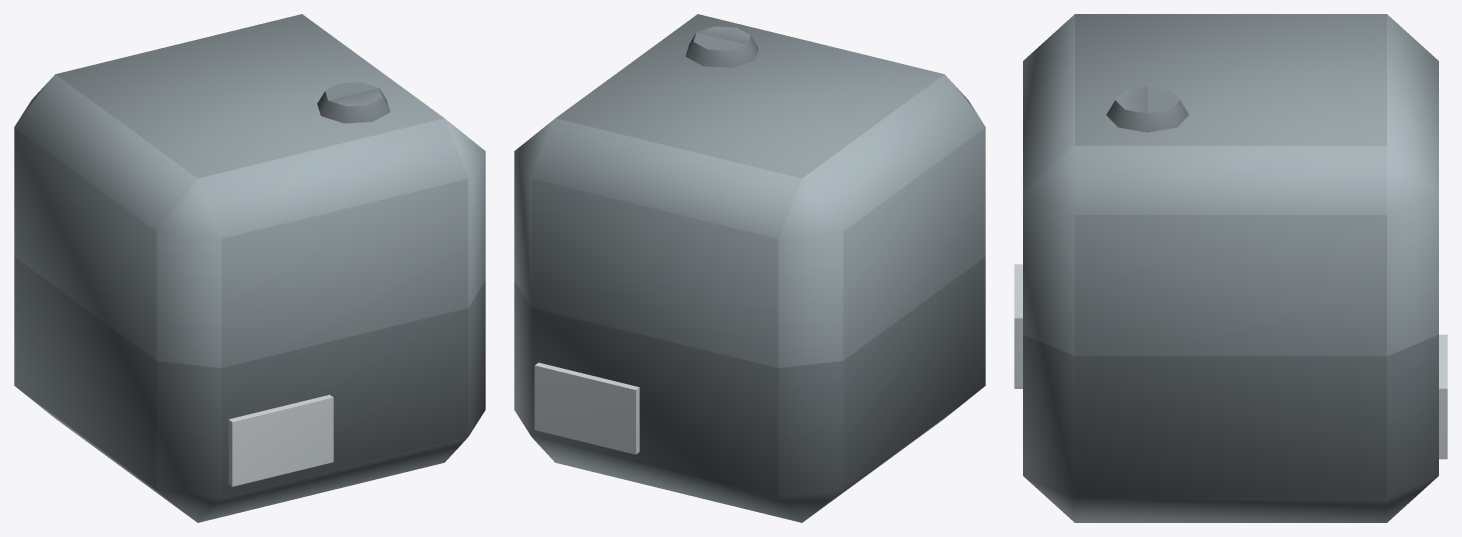
Rendered from cargo_b.glb.
3 views of the same model, side by side, from view 1: azimuth 30°, elevation 25°; view 2: azimuth 150°, elevation 25°; view 3: azimuth 270°, elevation 25° (orthographic). The views are drawn at different scales.
Parts seen in each view (by area): view 1: cargo_B; view 2: cargo_B; view 3: cargo_B.
Boxes of the visible parts, x1=… form: cargo_B: x1=14, y1=14, x2=485, y2=522; cargo_B: x1=514, y1=14, x2=985, y2=522; cargo_B: x1=1014, y1=14, x2=1447, y2=522.
Bounding box in the file's own units: 1.5 × 1.56 × 1.56.
1 material, 1 textured.
